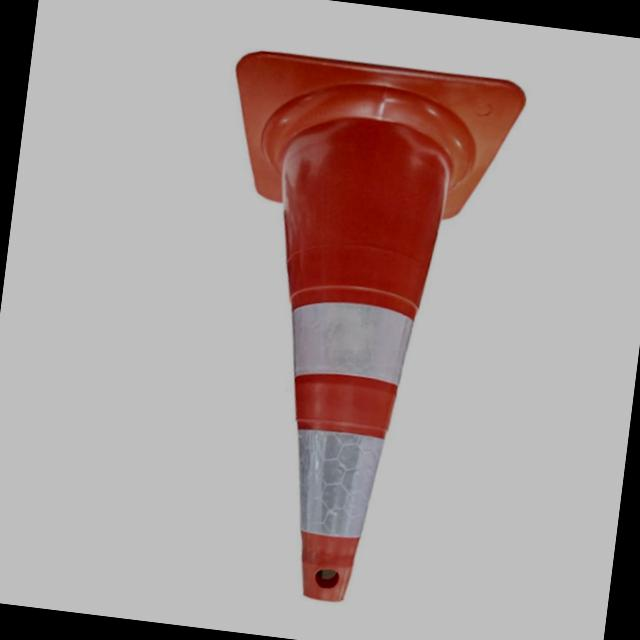cone: (175, 54, 507, 605)
